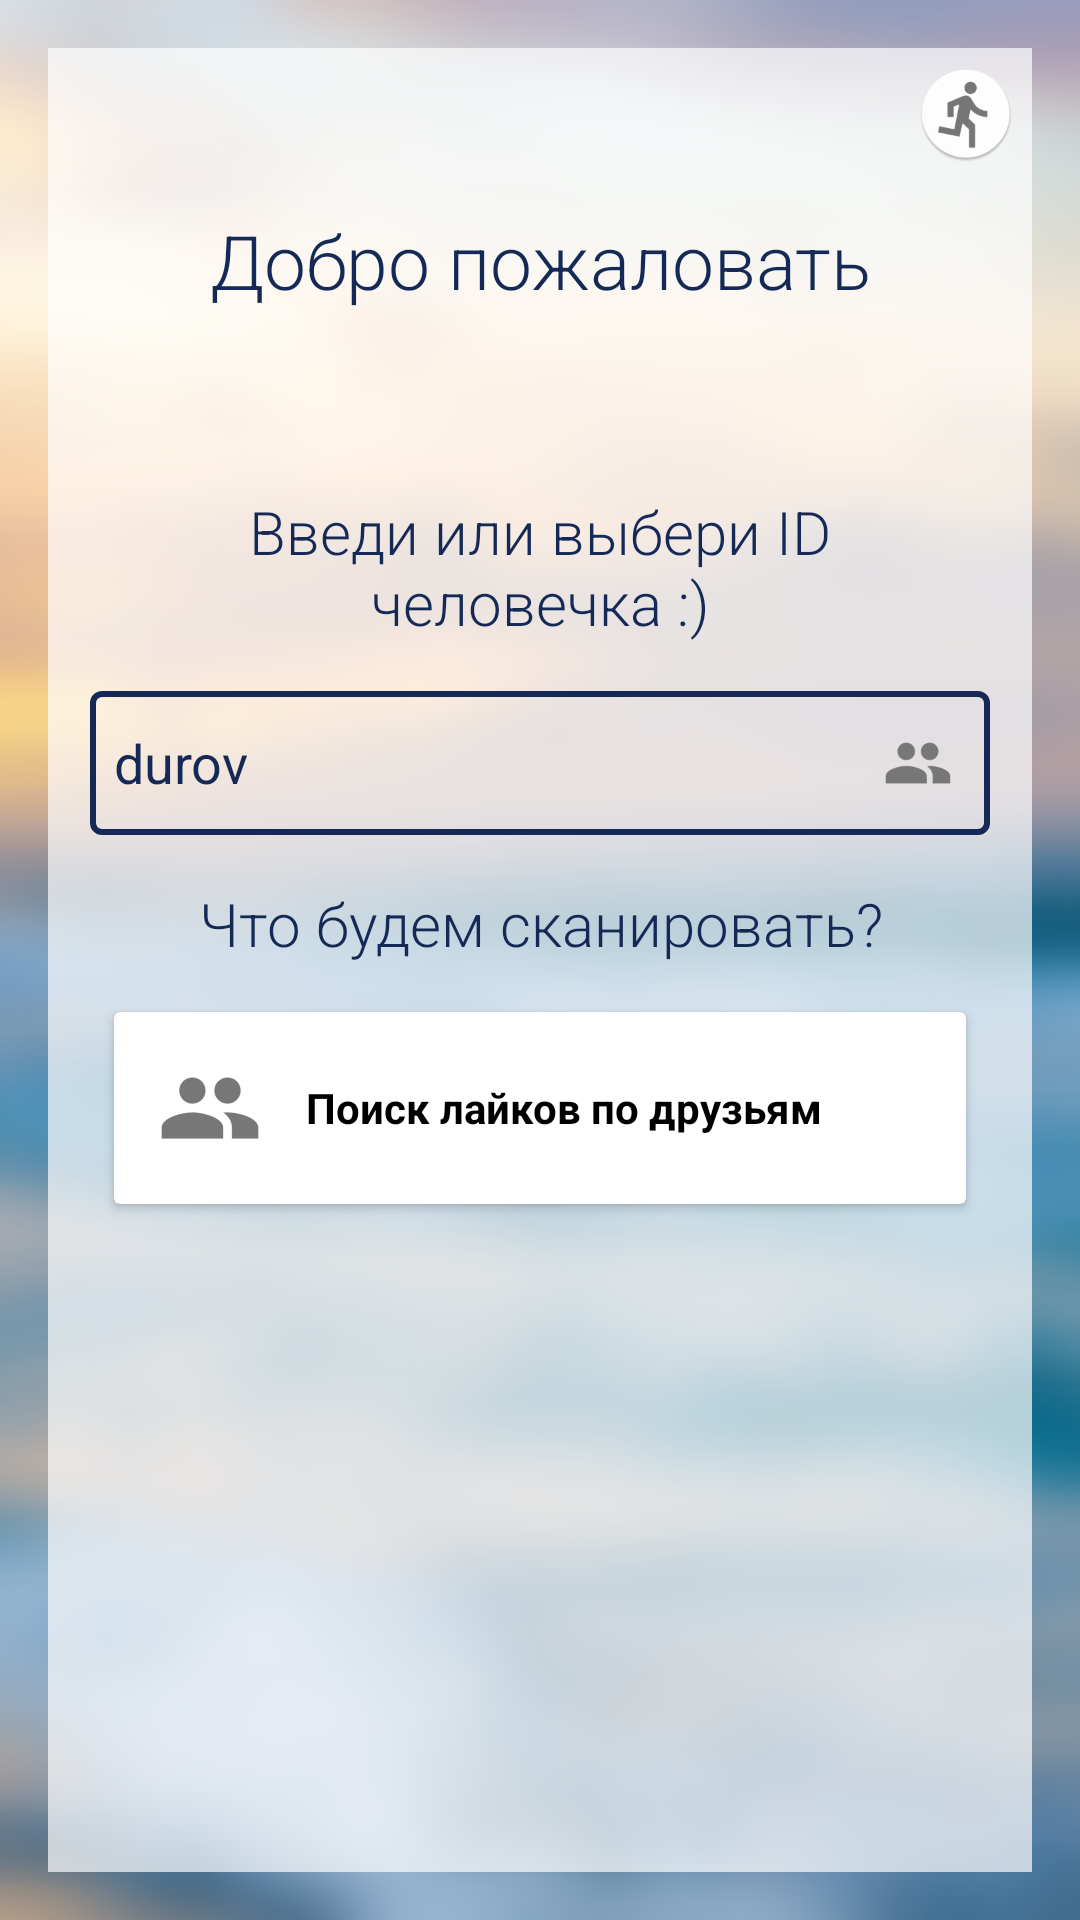

Screen size 1080*1920. Icon name, then its box in pixels as region(x1, y1, x2, y2):
exit: region(918, 66, 1014, 161)
friend: region(885, 742, 950, 784), region(161, 1077, 259, 1139)
